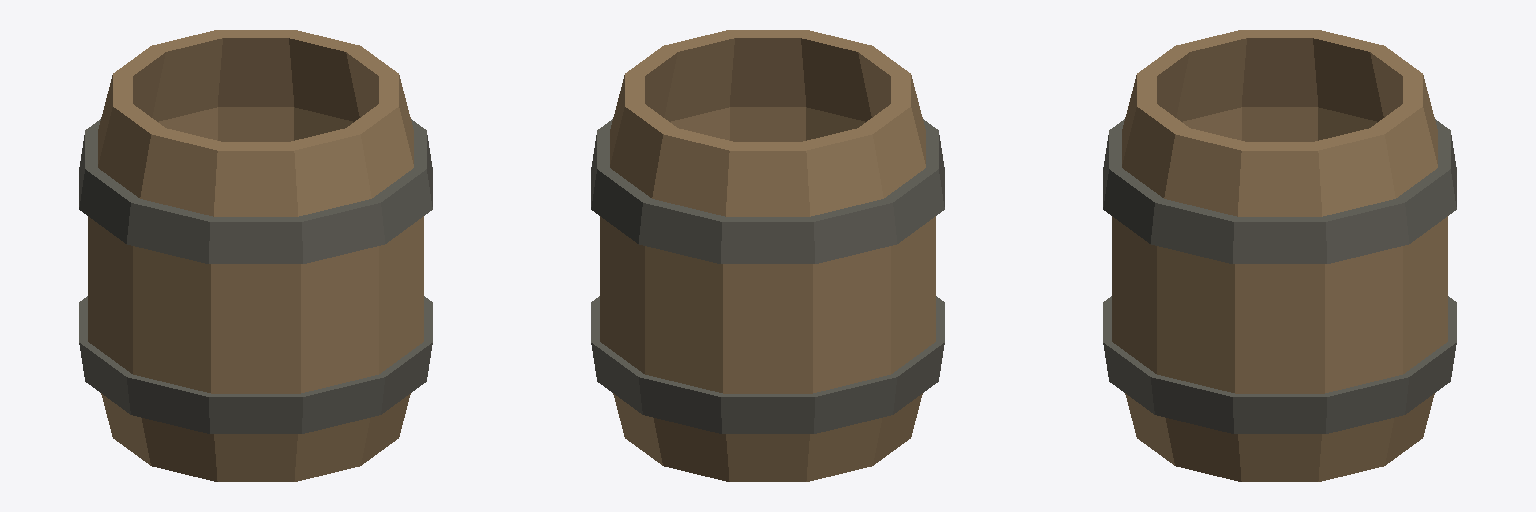
File: Prop_Barrel_1_Open.obj
3 renders of one model, left to right at view 1: azimuth 30°, elevation 25°; view 2: azimuth 150°, elevation 25°; view 3: azimuth 270°, elevation 25°, orthographic.
Visible parts, largest first — view 1: object3; view 2: object3; view 3: object3.
Part boxes in pixels (bbox=[...]): object3: bbox=[79, 30, 432, 481]; object3: bbox=[591, 30, 944, 481]; object3: bbox=[1103, 30, 1456, 481].
Size of the model in its own units: 0.483 by 0.5 by 0.483.